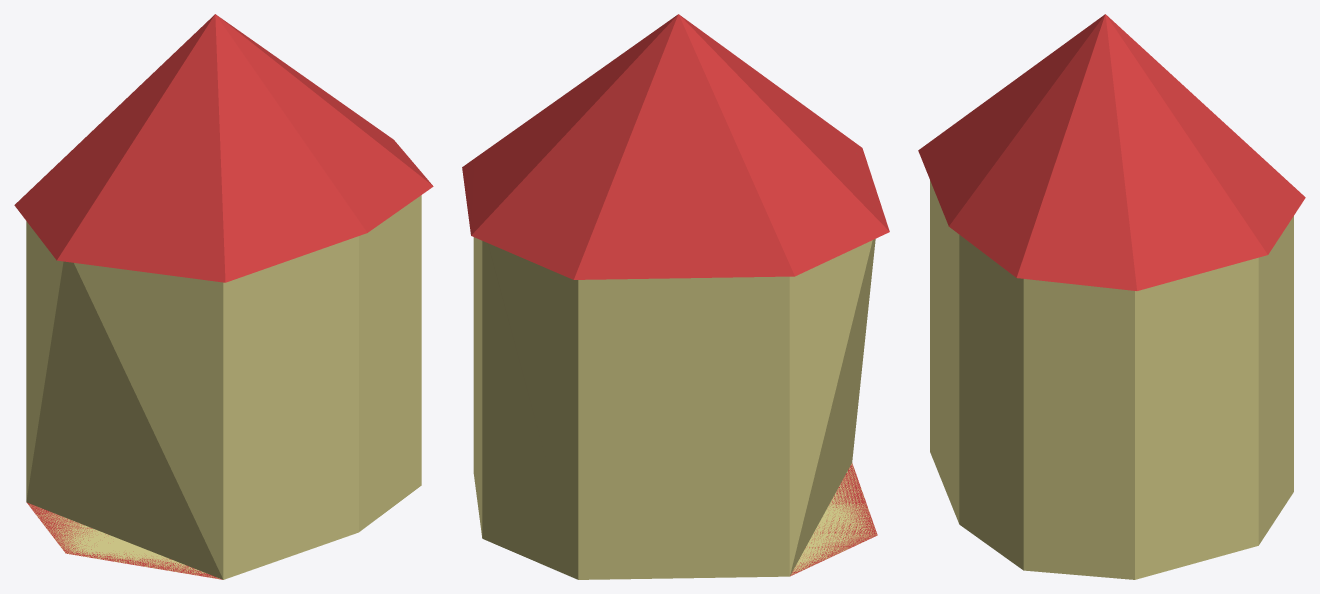
3 views of the same model, side by side, from view 1: azimuth 30°, elevation 25°; view 2: azimuth 150°, elevation 25°; view 3: azimuth 270°, elevation 25° (orthographic). The views are drawn at different scales.
Size of the model in its own units: 9.75 by 8.77 by 11.9.
